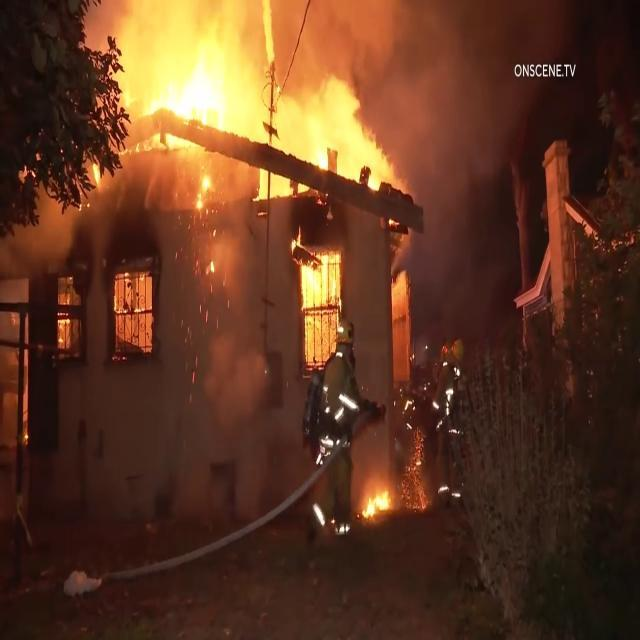Fire: (134, 50, 237, 156), (302, 130, 391, 208), (194, 162, 222, 280), (300, 242, 330, 338), (364, 488, 392, 521)
Smoke: (297, 0, 545, 111)
